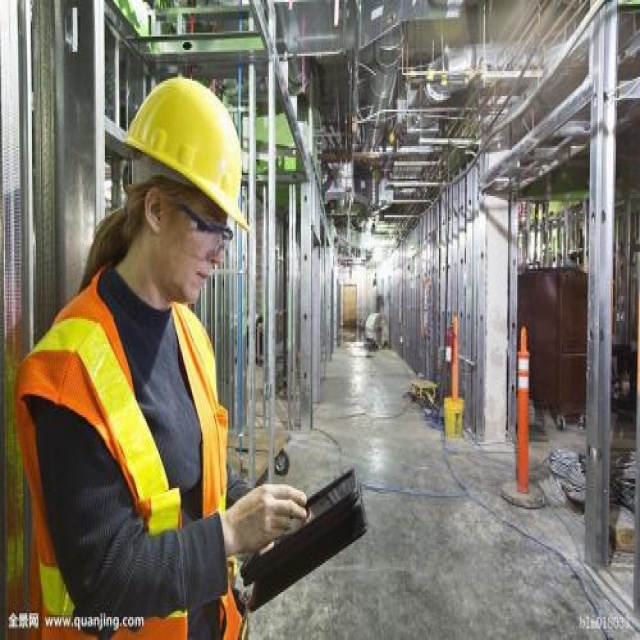Helmet: (110, 69, 258, 319)
Reflective vest: (13, 275, 249, 640)
